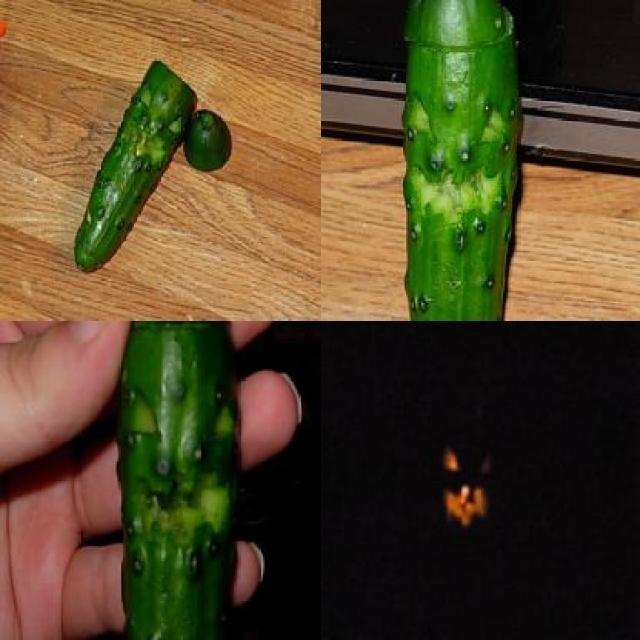Cucumber: (114, 319, 240, 639), (398, 0, 524, 320), (74, 56, 198, 270), (184, 109, 233, 169)
